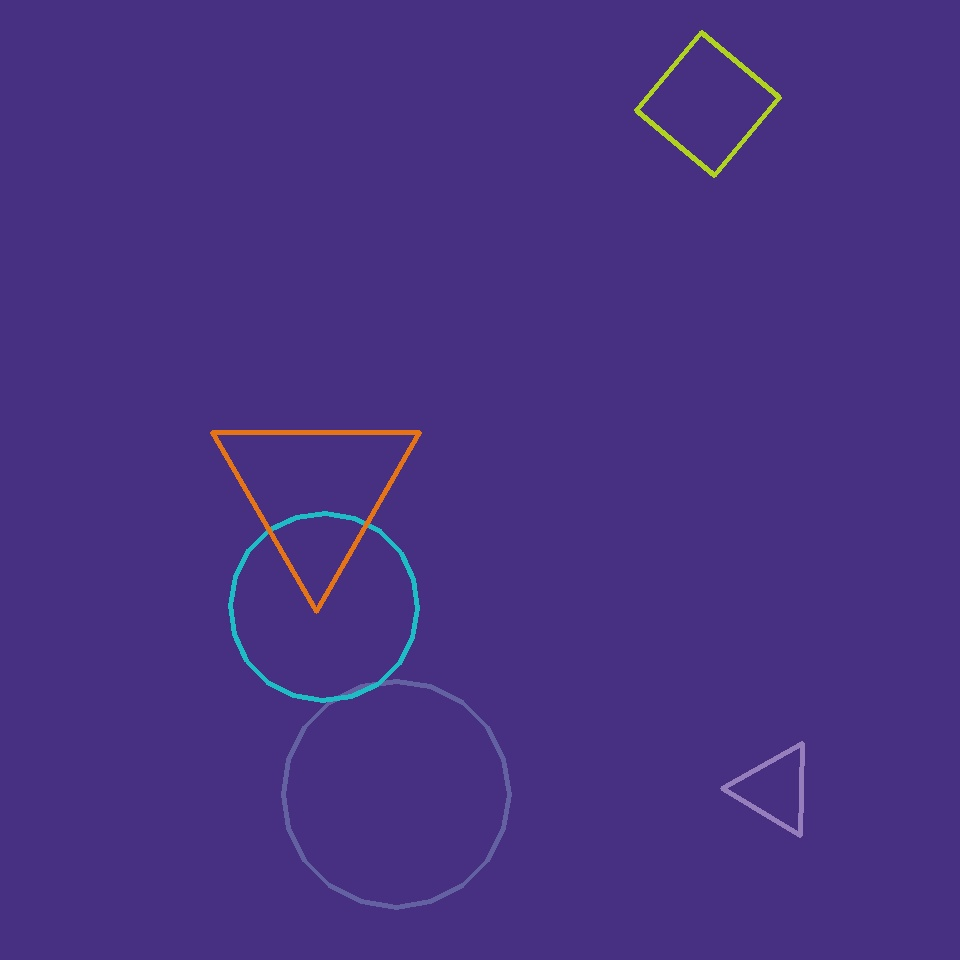circle: (212, 402, 420, 582), (735, 743, 815, 835)
square: (636, 33, 780, 176)
triangle: (283, 681, 509, 907), (230, 514, 418, 700)
